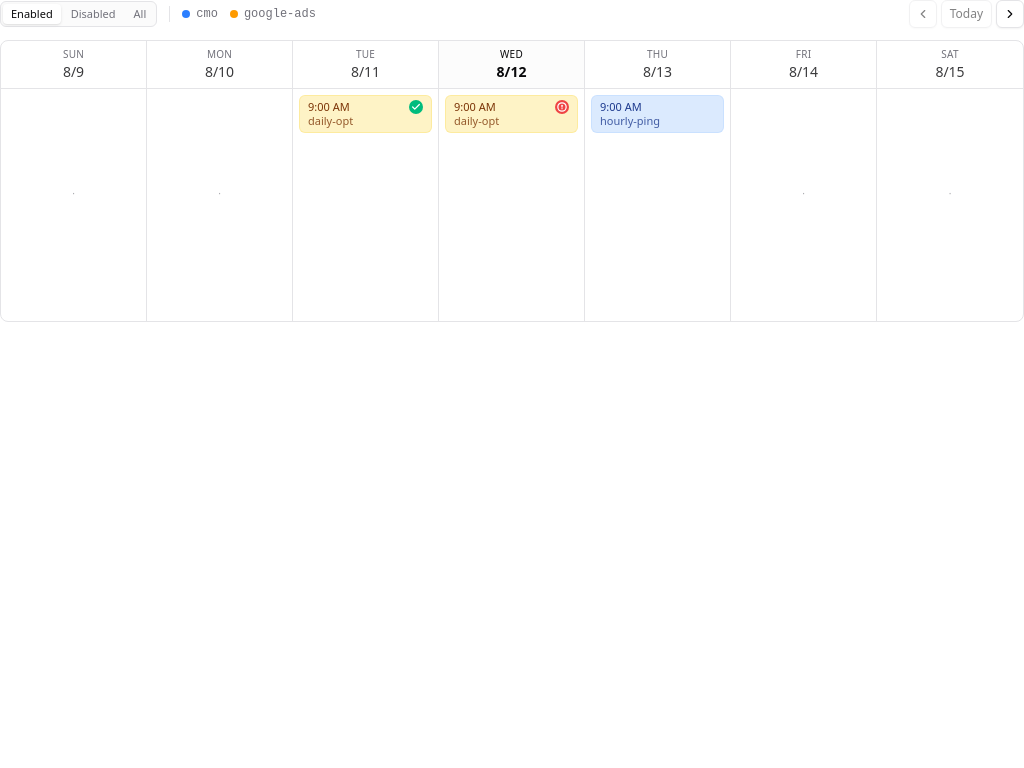
it: CronCalendar — occurrence detail dialog › clicking an occurrence chip opens the detail dialog with cron metadata
Click the button "9:00 AM daily-opt" below "8/11" at (366, 114), box [299,95,432,133]
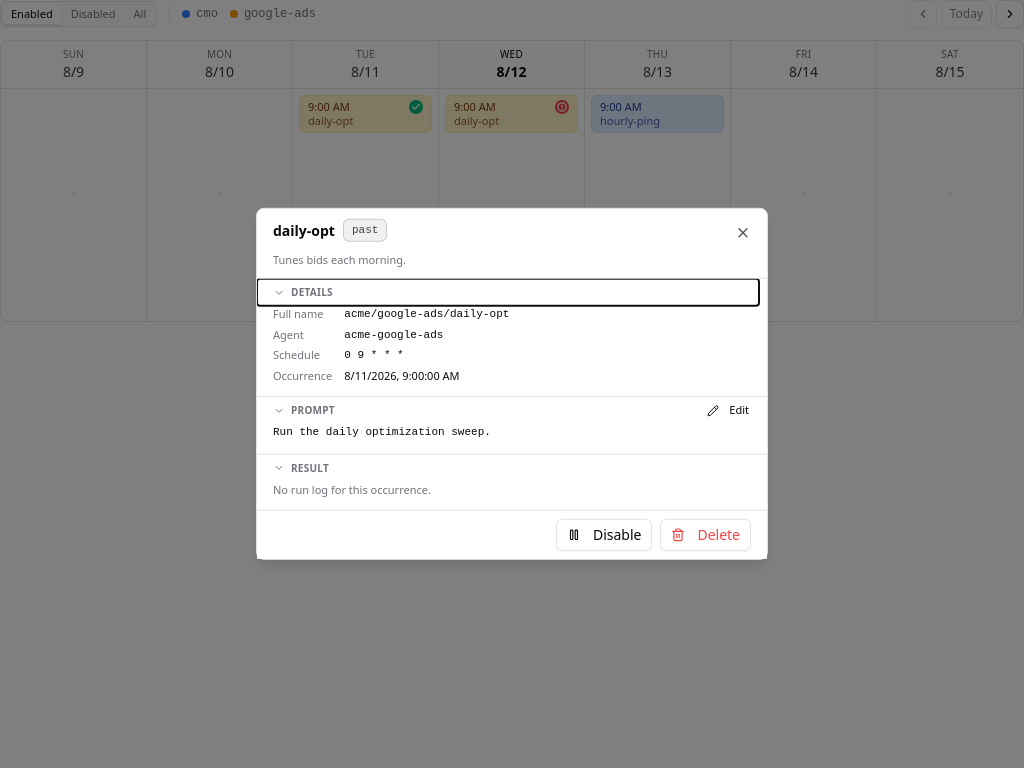
Result: the dialog is shown at [256,208,768,560]
Result: the text "Tunes bids each morning." is shown at [273,251,406,266]
Result: the text "acme/google-ads/daily-opt" is shown at [344,308,509,320]
